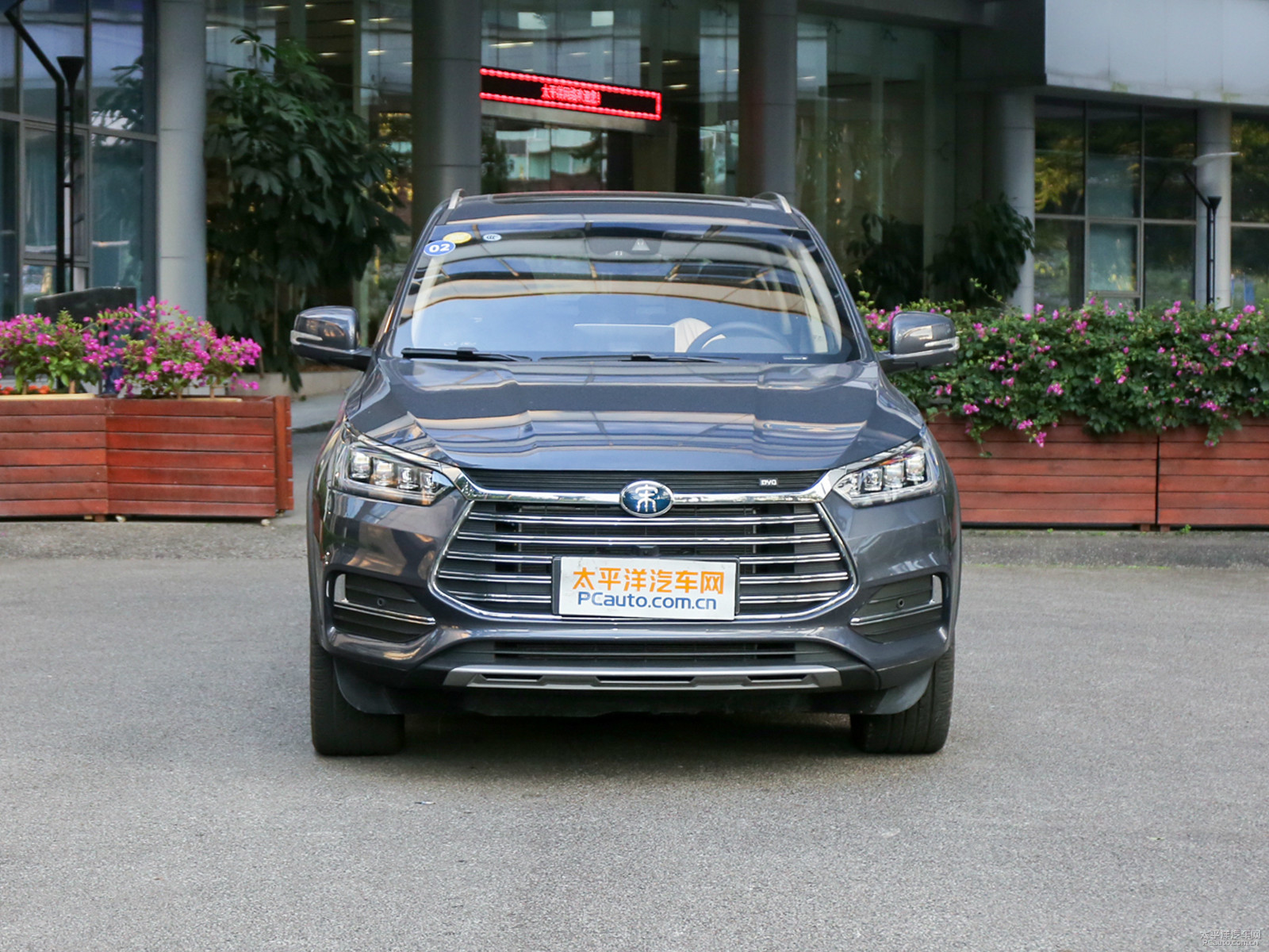BYD Song: (621, 482, 672, 517)
